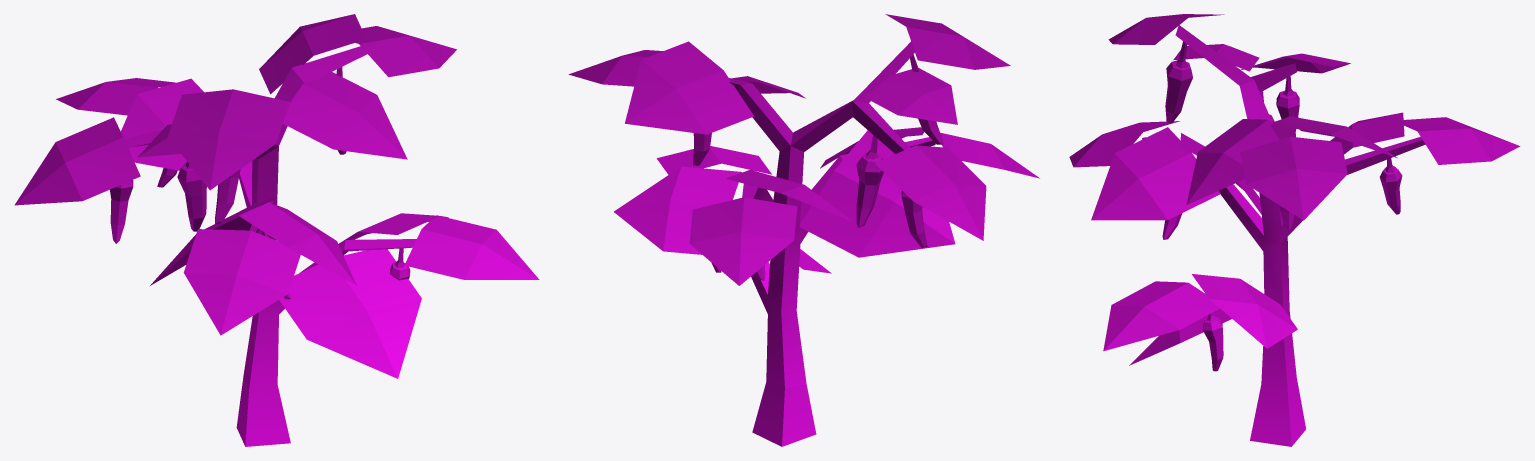
Rendered from SM_Prop_Plant_Bush_03_Chilli.fbx.
3 renders of one model, left to right at view 1: azimuth 30°, elevation 25°; view 2: azimuth 150°, elevation 25°; view 3: azimuth 270°, elevation 25°, orthographic. The views are drawn at different scales.
Visible parts, largest first — view 1: SM_Prop_Plant_Bush_03_Chilli; view 2: SM_Prop_Plant_Bush_03_Chilli; view 3: SM_Prop_Plant_Bush_03_Chilli.
Part boxes in pixels (x1,y1,x2,y2): SM_Prop_Plant_Bush_03_Chilli: (14, 14, 539, 446); SM_Prop_Plant_Bush_03_Chilli: (568, 14, 1039, 446); SM_Prop_Plant_Bush_03_Chilli: (1069, 14, 1520, 446).
Bounding box in the file's own units: 106 × 93.45 × 100.
